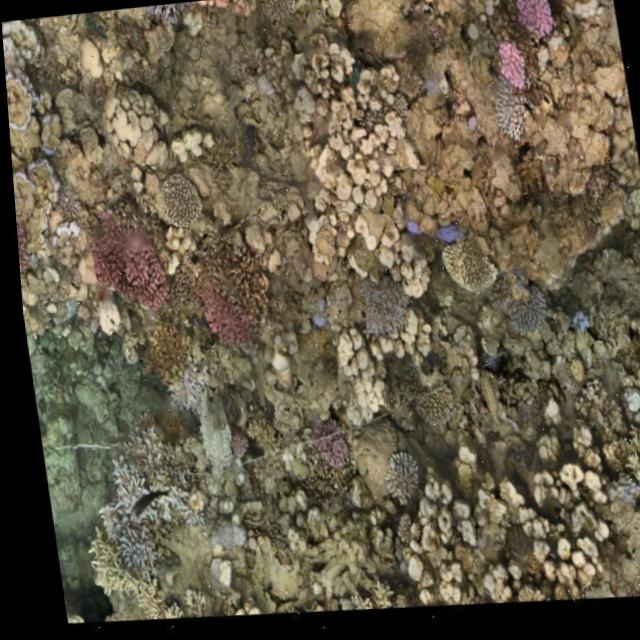Bleached Coral: (85, 451, 154, 589), (145, 485, 208, 550), (488, 71, 532, 154), (159, 379, 215, 432), (148, 2, 197, 38)
Healthy Coral: (53, 180, 152, 313), (488, 0, 589, 64), (188, 283, 260, 367)
